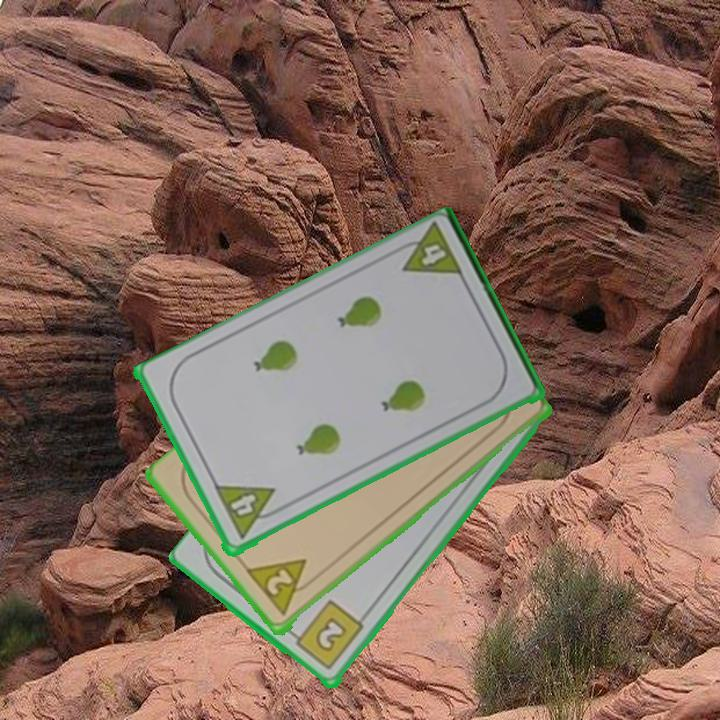2b: (286, 597, 367, 673)
2p: (244, 555, 320, 621)
4p: (389, 221, 467, 282), (211, 481, 285, 543)
